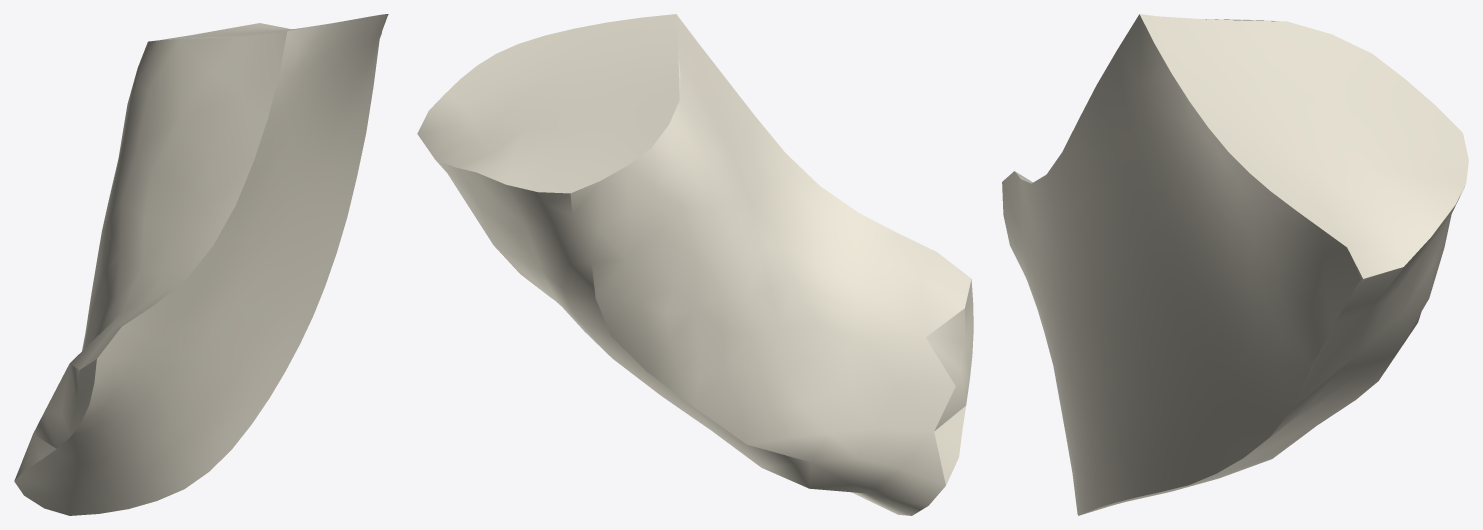
Rendered from fma16336_mm2331m.glb.
The picture shows the model from 3 angles, left to right: view 1: azimuth 30°, elevation 25°; view 2: azimuth 150°, elevation 25°; view 3: azimuth 270°, elevation 25°; orthographic projection. The views are drawn at different scales.
Visible parts, largest first — view 1: FMA16336_MM2331M; view 2: FMA16336_MM2331M; view 3: FMA16336_MM2331M.
Boxes of the visible parts, left/top/right/bottom form: FMA16336_MM2331M: left=14, top=14, right=388, bottom=515; FMA16336_MM2331M: left=417, top=14, right=973, bottom=515; FMA16336_MM2331M: left=1002, top=14, right=1468, bottom=515.
Bounding box in the file's own units: 0.00838 × 0.00784 × 0.00538.
